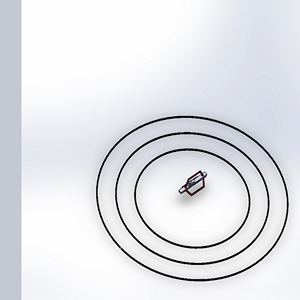circle: (90, 110, 295, 285)
submarine: (170, 165, 216, 210)
